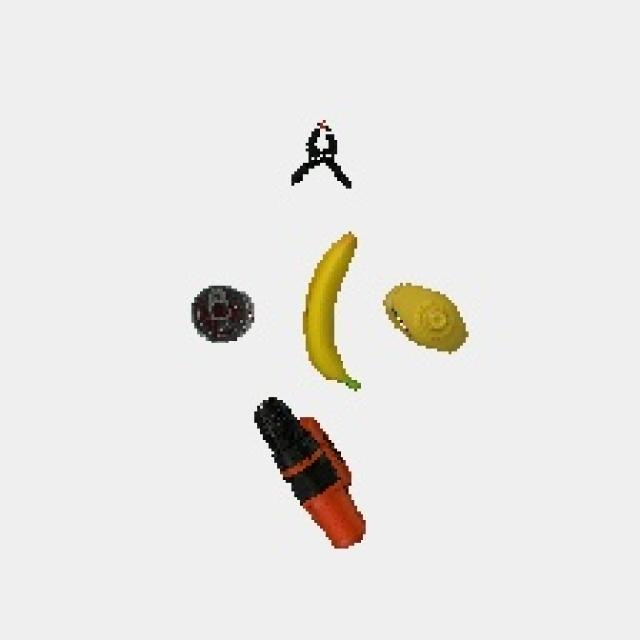Banana: (295, 229, 370, 392)
MediumClamp: (284, 116, 360, 199)
MustardBottle: (380, 267, 480, 367)
PowerDrill: (248, 396, 372, 559)
TomatoSoupCan: (184, 279, 266, 355)
